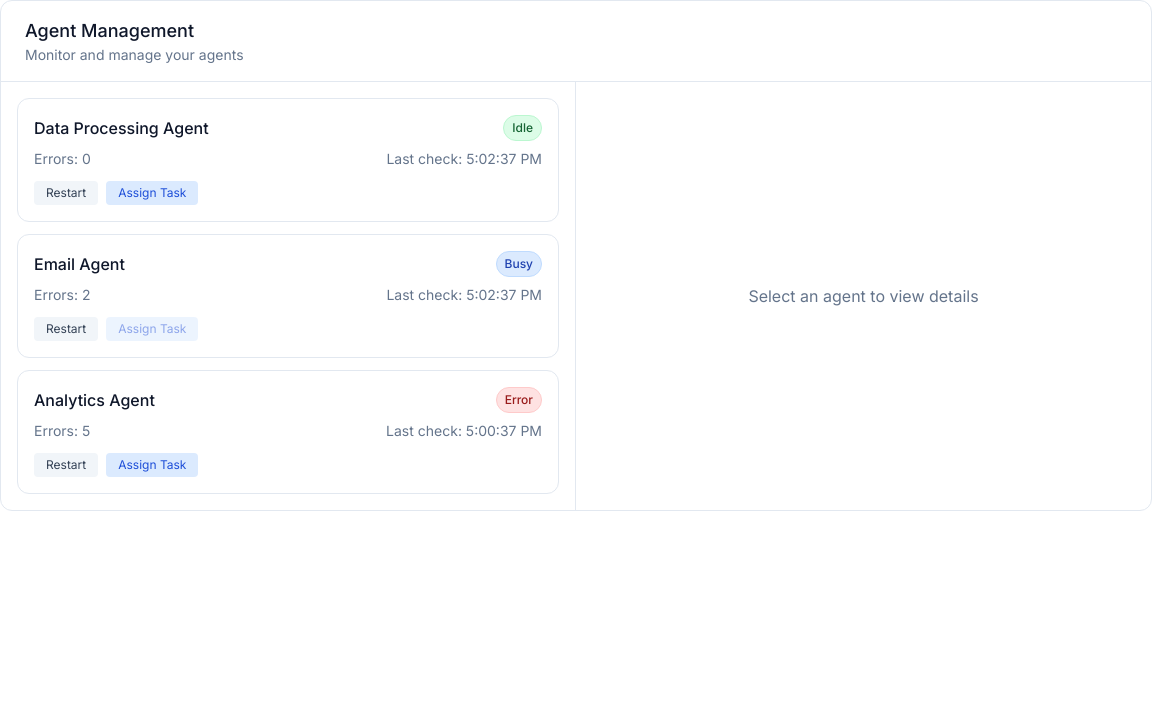
Test: AgentPanel UI › should display agent logs when agent is selected
This screenshot has width=1152, height=720.
What coordinates should you click on to do the following:
click the heading "Data Processing Agent"
I would click on:
 (121, 128)
Its box is [34,116,209,140].
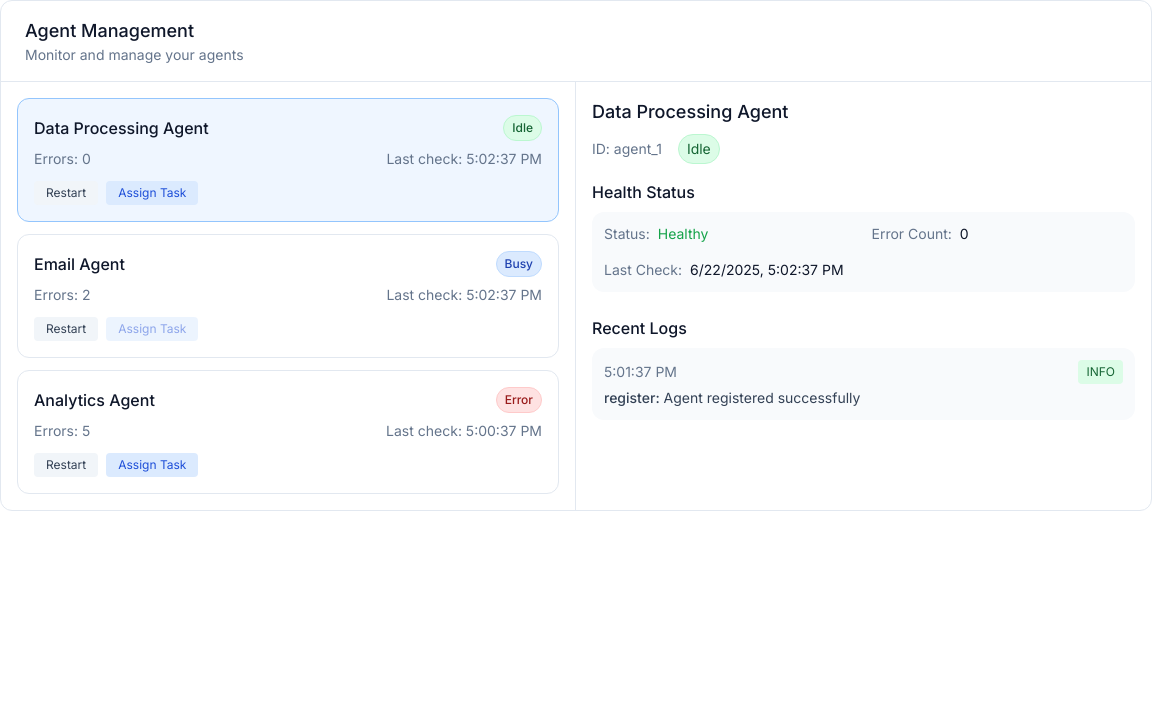
Check: the heading "Recent Logs" is shown, box [592,318,687,338]
Check: the text "register: Agent registered successfully" is shown, box [604,389,860,406]
